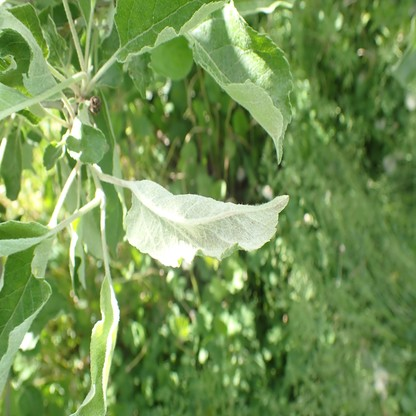powdery_mildew: (188, 2, 293, 164), (124, 180, 290, 267), (68, 277, 119, 415)
